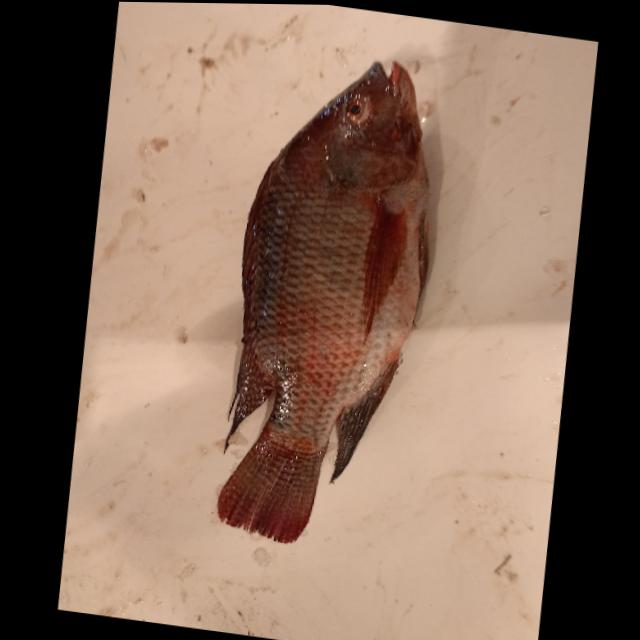Tilapia: (196, 38, 455, 558)
